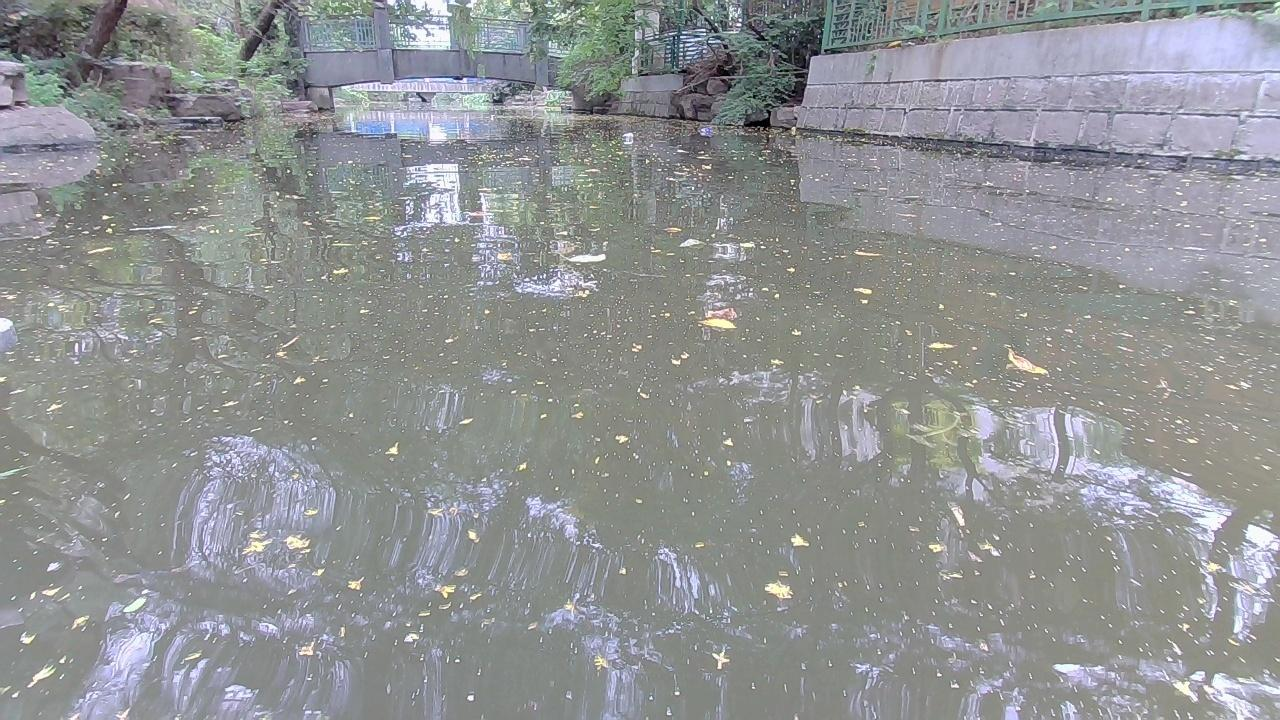bottle: (621, 129, 635, 138), (700, 125, 712, 134), (789, 124, 797, 133)
